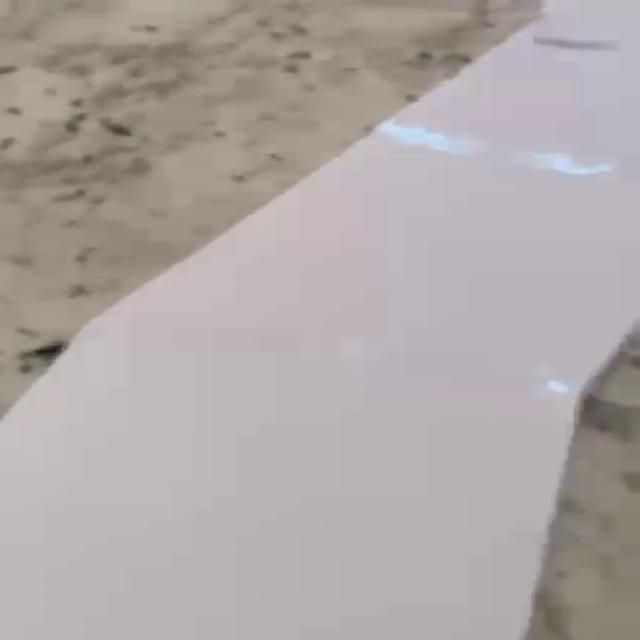road: (0, 0, 640, 640)
